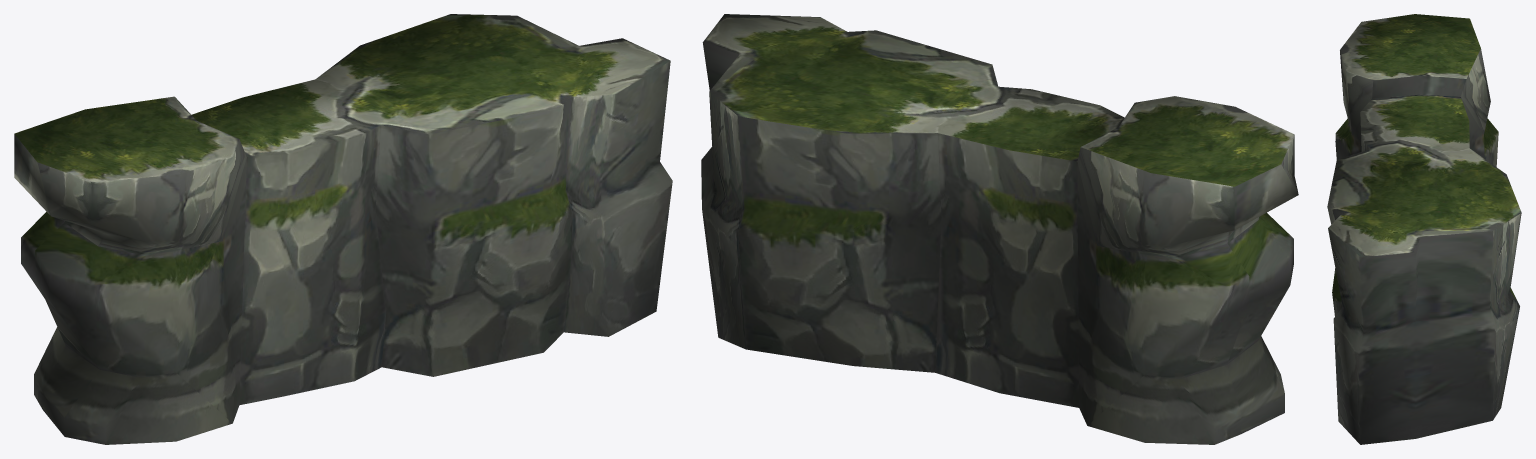
Rendered from Battle01_DuoBaoQiBingRock_02.FBX.
3 views of the same model, side by side, from view 1: azimuth 30°, elevation 25°; view 2: azimuth 150°, elevation 25°; view 3: azimuth 270°, elevation 25° (orthographic). The views are drawn at different scales.
Visible parts, largest first — view 1: Battle01_DuoBaoQiBingRock_02; view 2: Battle01_DuoBaoQiBingRock_02; view 3: Battle01_DuoBaoQiBingRock_02.
Boxes of the visible parts, left/top/right/bottom form: Battle01_DuoBaoQiBingRock_02: left=14, top=14, right=672, bottom=444; Battle01_DuoBaoQiBingRock_02: left=701, top=14, right=1298, bottom=444; Battle01_DuoBaoQiBingRock_02: left=1327, top=14, right=1521, bottom=444.
Size of the model in its own units: 13.66 by 5.78 by 4.89.
